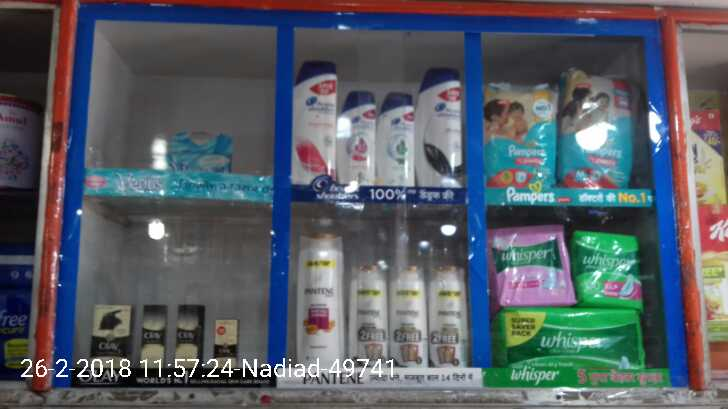venus: (172, 130, 231, 167)
